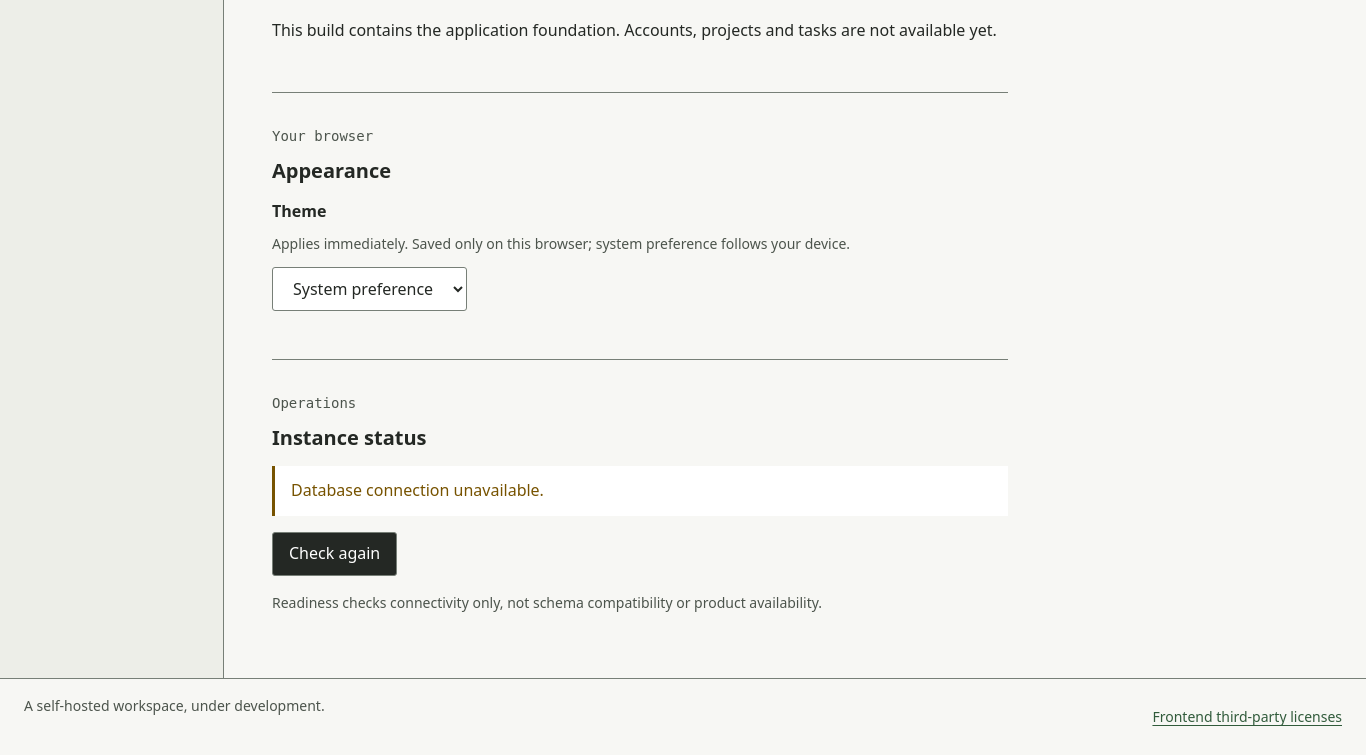
Test: an unavailable database can be checked again and recover
(page scrolled)
Expected: the message shows "Database connection unavailable", [291,479,544,501]
Click the button "Check again".
click(335, 554)  # box [272,532,397,576]
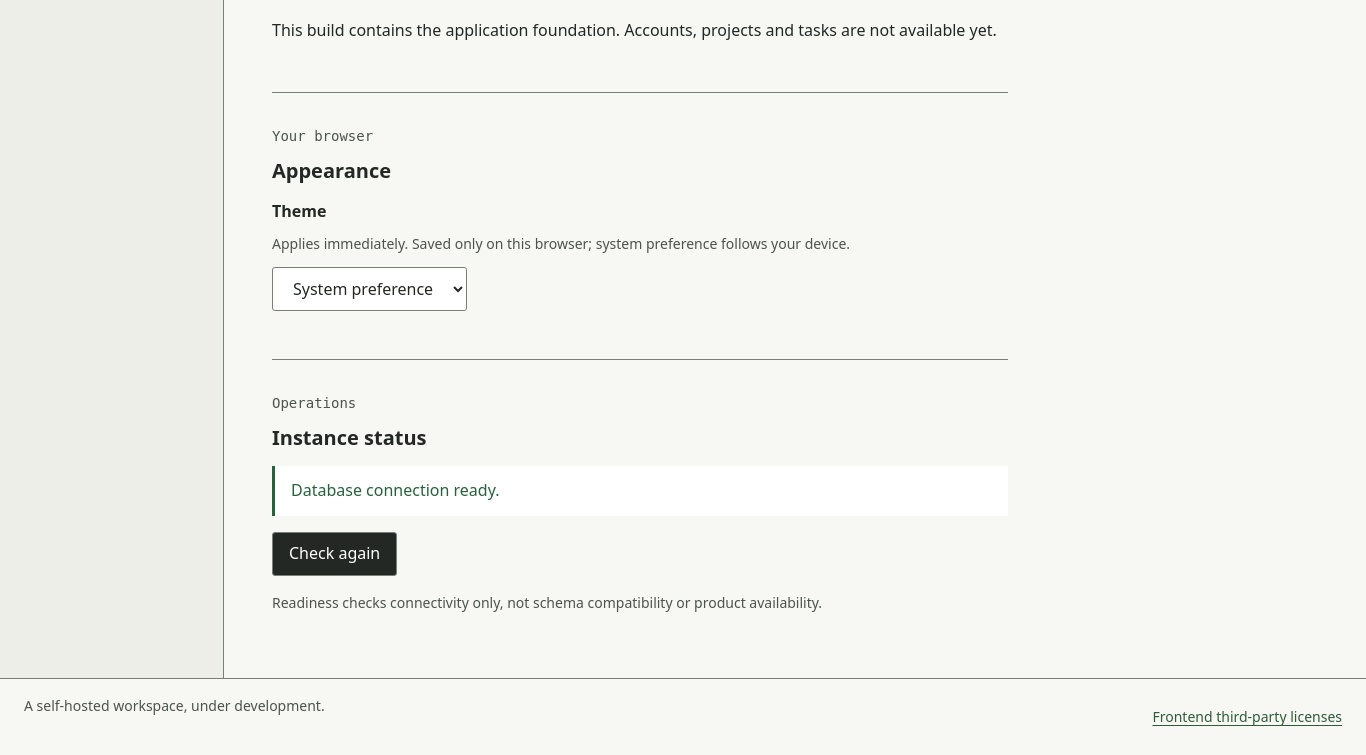
Result: the message shows "Database connection ready" at [291,479,500,501]
